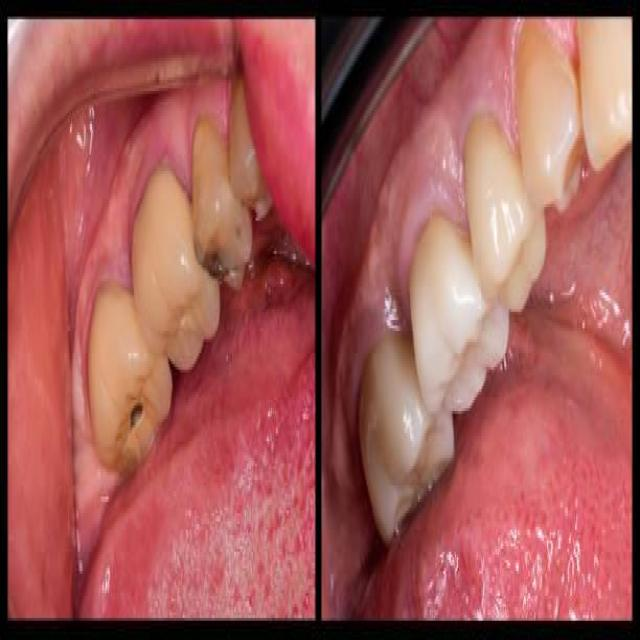caries: (200, 219, 238, 309), (117, 373, 154, 459)
